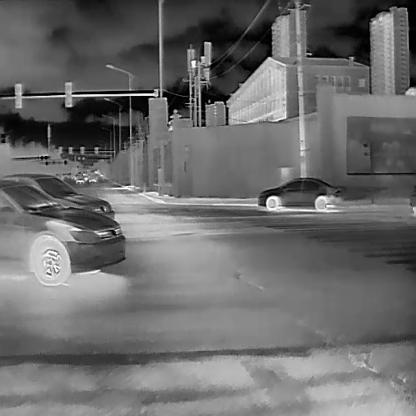car: (0, 179, 125, 285), (0, 172, 114, 219), (256, 176, 343, 208)
